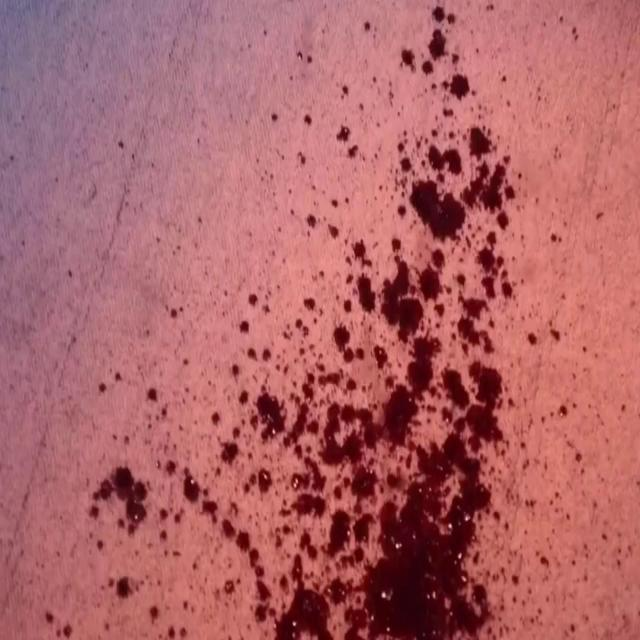flood: (306, 22, 514, 640), (142, 304, 308, 640)
